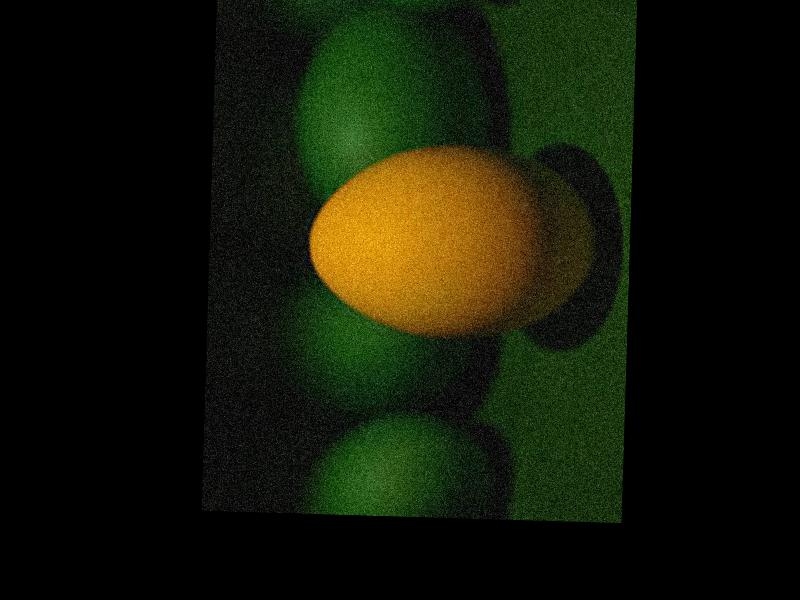Eggs: (308, 140, 598, 342)
